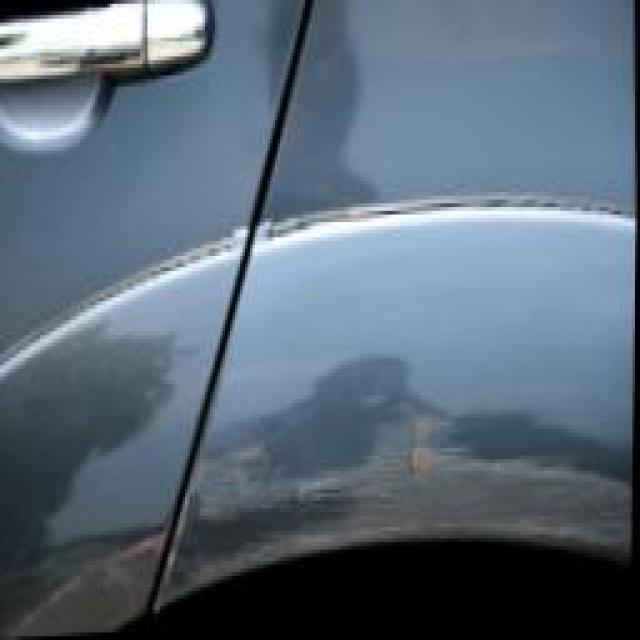Door: (0, 501, 168, 640)
Fender: (180, 354, 635, 630)
